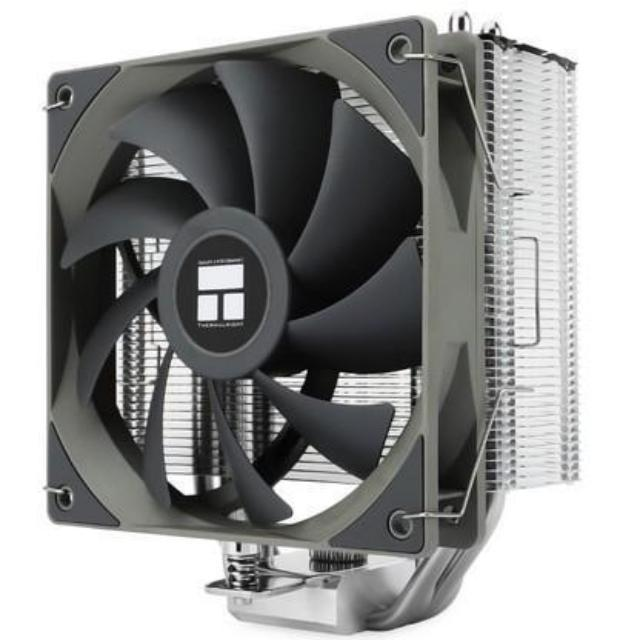CPU_Fan: (42, 10, 582, 632)
